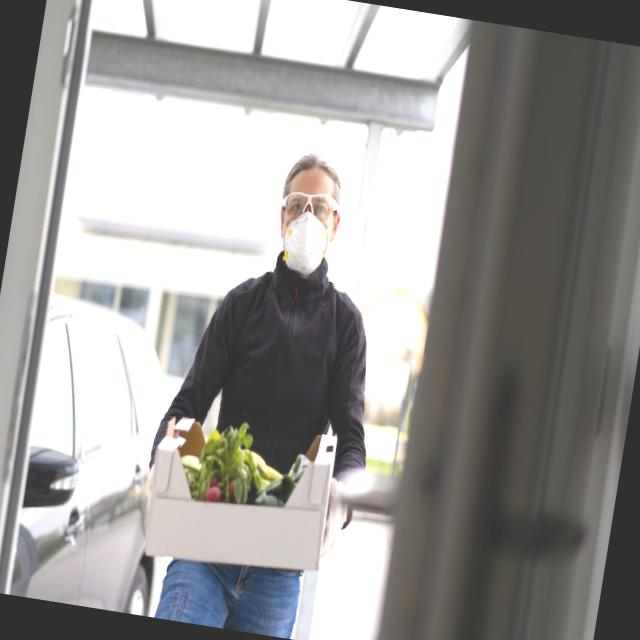goggles: (280, 188, 347, 228)
no-helmet: (285, 149, 351, 196)
no-vest: (210, 274, 346, 472)
